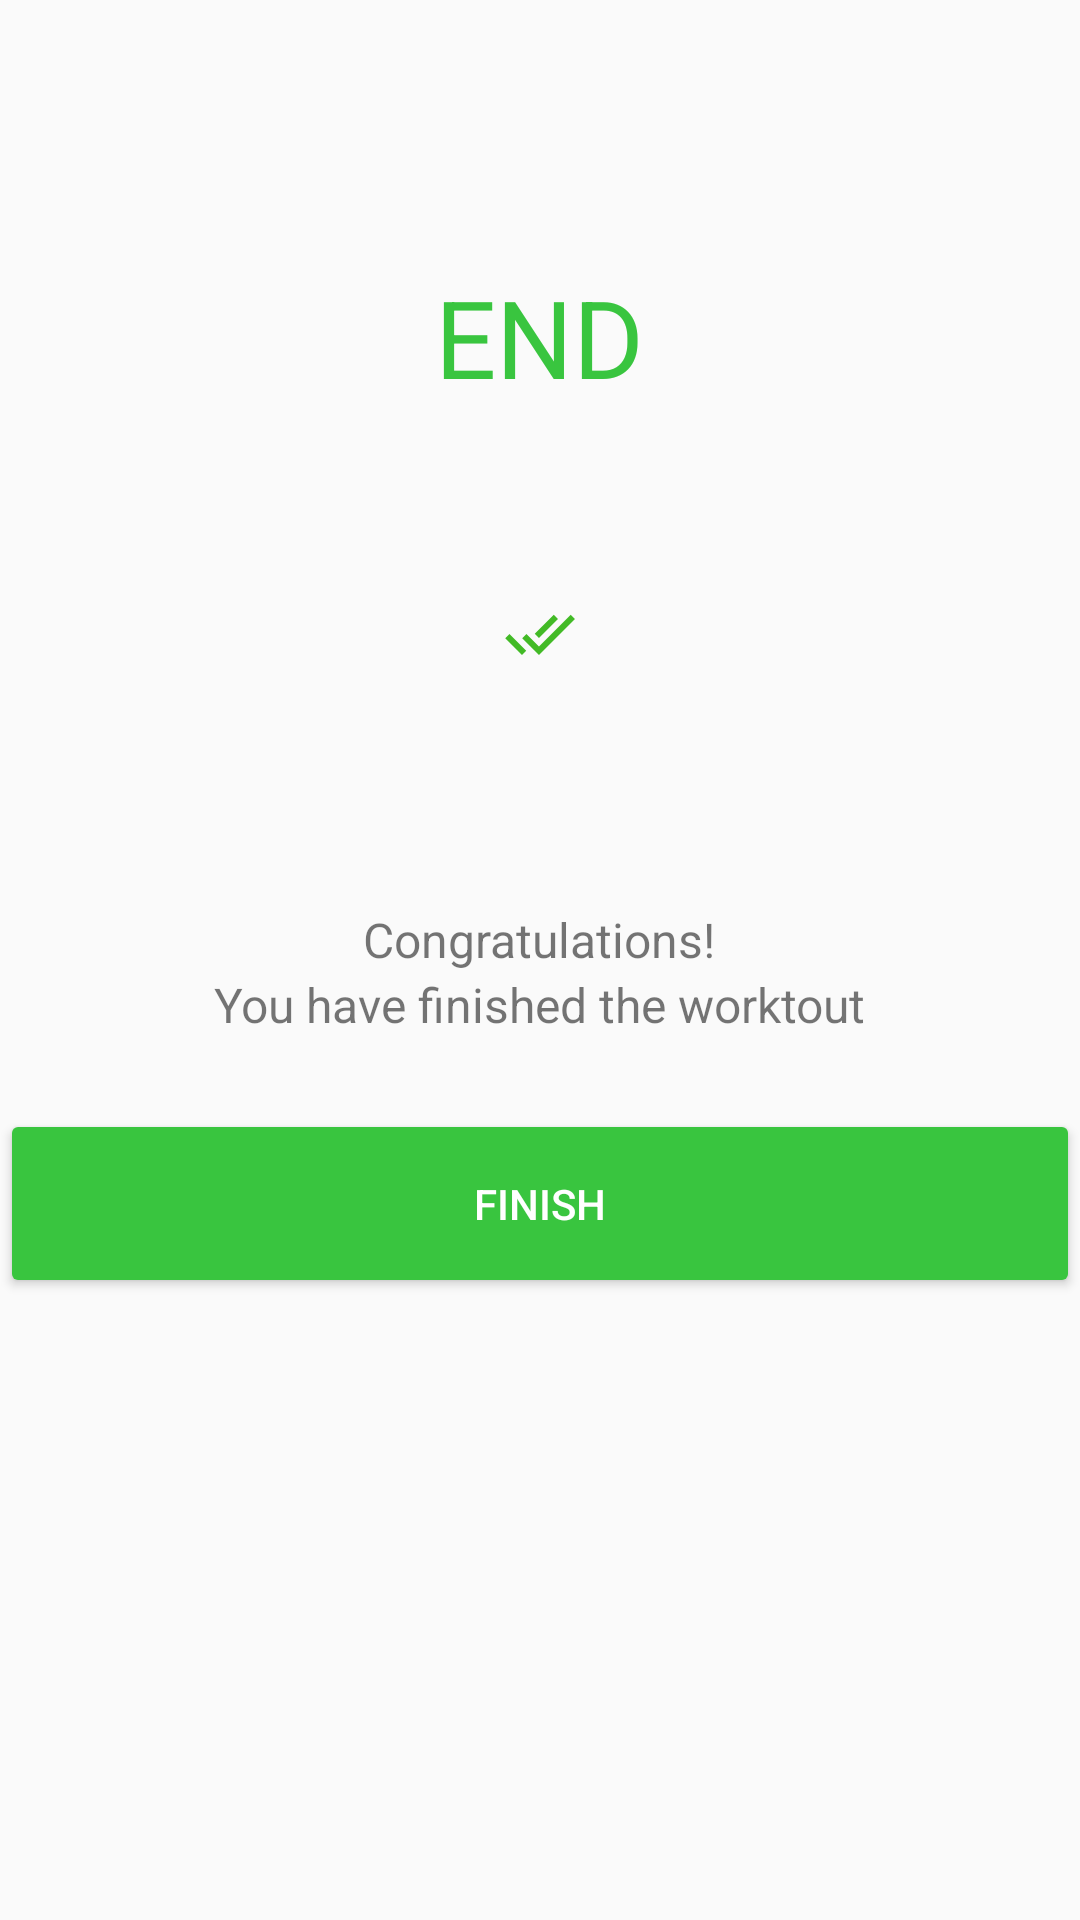

Where icons sit on this 1080 x 1920 app screen, as (x1, y1, x2, y2):
done all: (505, 615, 575, 655)
